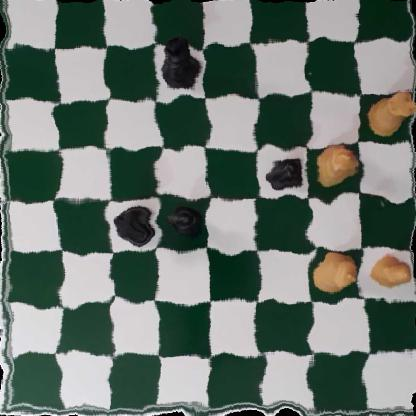black-king: (162, 35, 201, 94)
black-pawn: (269, 151, 306, 193), (168, 204, 206, 239)
black-rook: (114, 204, 157, 248)
white-bishop: (312, 141, 359, 190)
white-king: (311, 250, 363, 295)
white-pawn: (373, 255, 413, 291)
white-rook: (366, 91, 416, 136)
